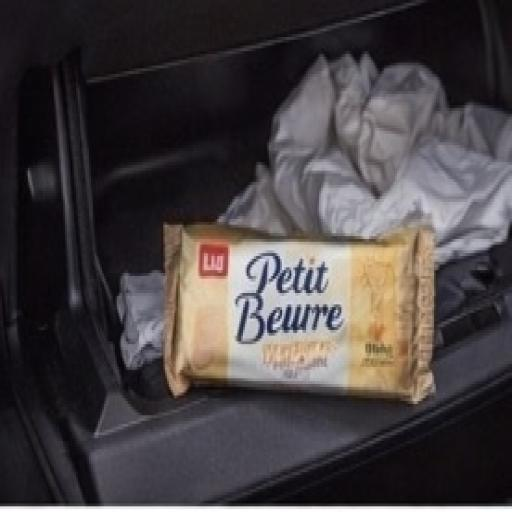petit-beurre: (133, 164, 478, 451)
